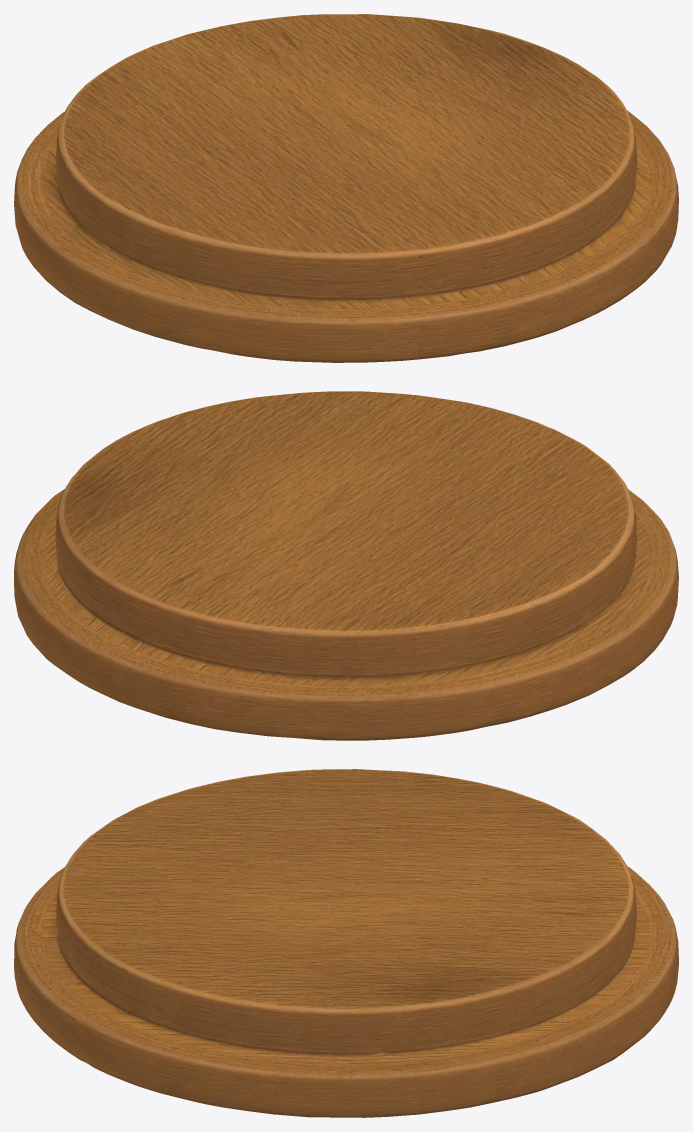
Rendered from Pedestal.glb.
3 renders of one model, top to bottom at view 1: azimuth 30°, elevation 25°; view 2: azimuth 150°, elevation 25°; view 3: azimuth 270°, elevation 25°, orthographic.
Parts seen in each view (by area): view 1: Mesh1.0; view 2: Mesh1.0; view 3: Mesh1.0.
Part boxes in pixels (x1,y1,x2,y2): Mesh1.0: [14, 14, 678, 362]; Mesh1.0: [14, 391, 678, 740]; Mesh1.0: [14, 769, 678, 1117].
Bounding box in the file's own units: 1.9 × 0.2913 × 1.9.
Materials: 1 (1 with a texture image).
